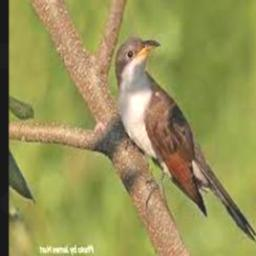Cuckoo: (114, 37, 256, 241)
